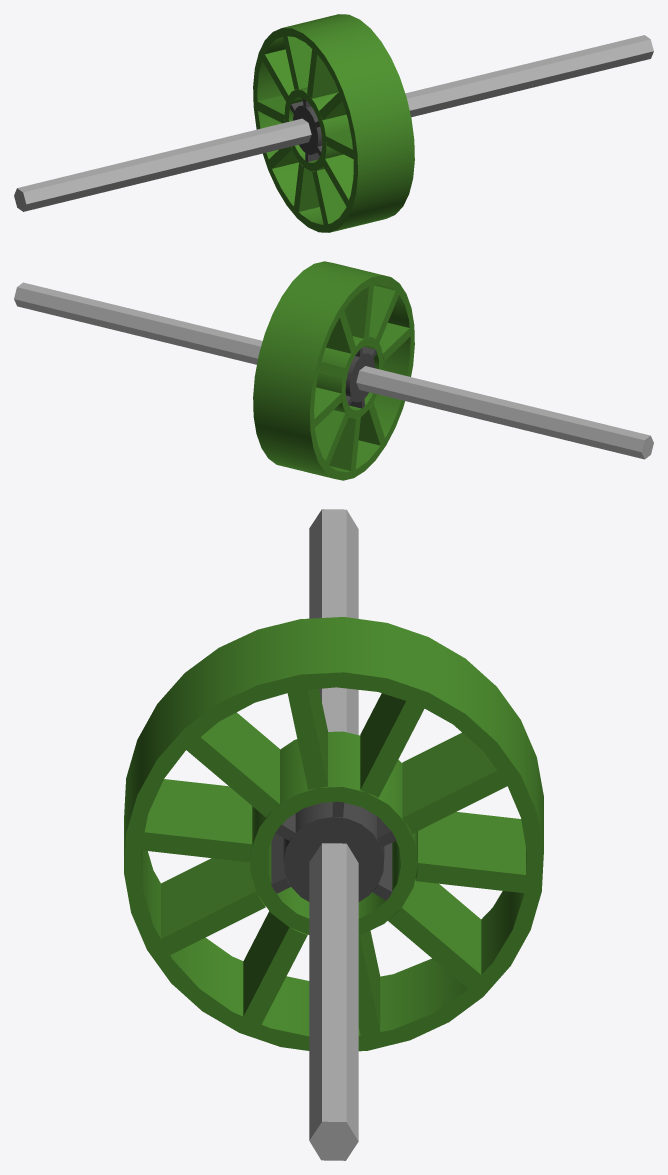
The picture shows the model from 3 angles, top to bottom: view 1: azimuth 30°, elevation 25°; view 2: azimuth 150°, elevation 25°; view 3: azimuth 270°, elevation 25°; orthographic projection. The views are drawn at different scales.
Visible parts, largest first — view 1: Part 14, Part 2, Part 23, Part 21, Part 8, Part 13, Part 9, Part 4, Part 12, Part 7, Part 22, Part 5 (+3 smaller); view 2: Part 14, Part 2, Part 23, Part 21, Part 7, Part 12, Part 11, Part 6, Part 8, Part 13, Part 10, Part 5 (+1 smaller); view 3: Part 14, Part 23, Part 21, Part 5, Part 10, Part 2, Part 9, Part 4, Part 6, Part 11, Part 22, Part 8 (+4 smaller).
Part boxes in pixels (<box>): Part 14: <box>253,14,414,232</box>; Part 2: <box>14,118,311,211</box>; Part 23: <box>405,35,653,117</box>; Part 21: <box>284,87,349,171</box>; Part 8: <box>312,169,346,224</box>; Part 13: <box>283,36,312,89</box>; Part 9: <box>322,154,353,206</box>; Part 4: <box>262,49,296,101</box>; Part 12: <box>307,49,338,98</box>; Part 7: <box>294,162,319,211</box>; Part 22: <box>293,105,322,154</box>; Part 5: <box>257,95,286,123</box>; Part 14: <box>253,261,414,480</box>; Part 2: <box>356,366,653,459</box>; Part 23: <box>14,282,262,364</box>; Part 21: <box>316,336,383,418</box>; Part 7: <box>329,417,360,471</box>; Part 12: <box>344,284,373,338</box>; Part 11: <box>369,285,399,342</box>; Part 6: <box>315,410,348,464</box>; Part 8: <box>358,402,384,445</box>; Part 13: <box>326,310,355,353</box>; Part 10: <box>379,323,410,361</box>; Part 5: <box>314,387,341,427</box>; Part 14: <box>124,617,543,1051</box>; Part 23: <box>309,843,358,1160</box>; Part 21: <box>250,731,417,934</box>; Part 5: <box>415,812,526,893</box>; Part 10: <box>141,779,252,862</box>; Part 2: <box>309,509,358,734</box>; Part 9: <box>161,856,265,954</box>; Part 4: <box>402,732,507,833</box>; Part 6: <box>388,878,481,988</box>; Part 11: <box>186,712,279,817</box>; Part 22: <box>283,802,384,901</box>; Part 8: <box>243,911,307,1024</box>.
Bounding box in the file's own units: 0.4308 × 0.1249 × 0.1248.
